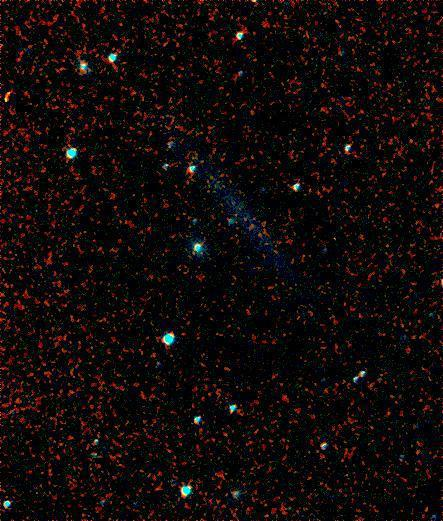star: (232, 241, 262, 271)
